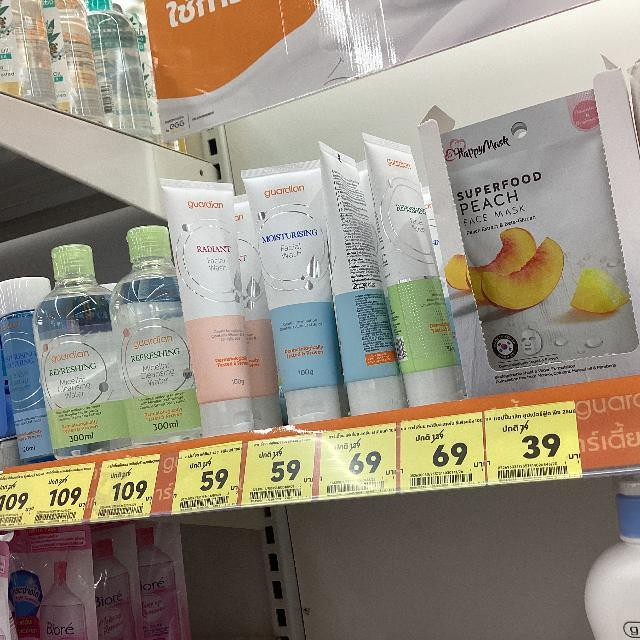Squeeze Tube: (357, 138, 475, 406), (160, 172, 264, 434), (233, 164, 332, 422), (318, 138, 395, 416)
